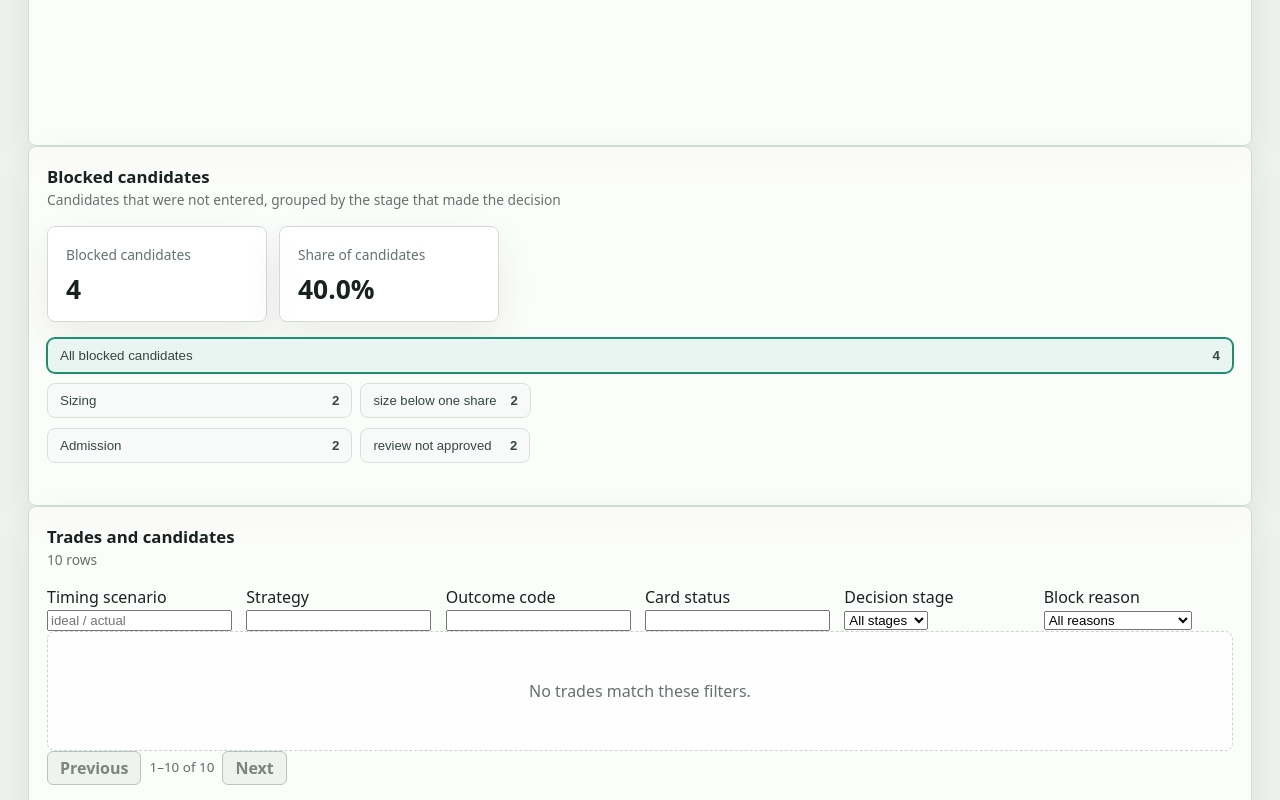
BacktesterTab › shows blocked-candidate counts and filters candidate rows from breakdown buckets
(page scrolled)
Expected: the text "40.0%" is shown, [298,272,375,308]
Click the button "size below one share 2".
click(446, 400)  # box [360,383,531,418]
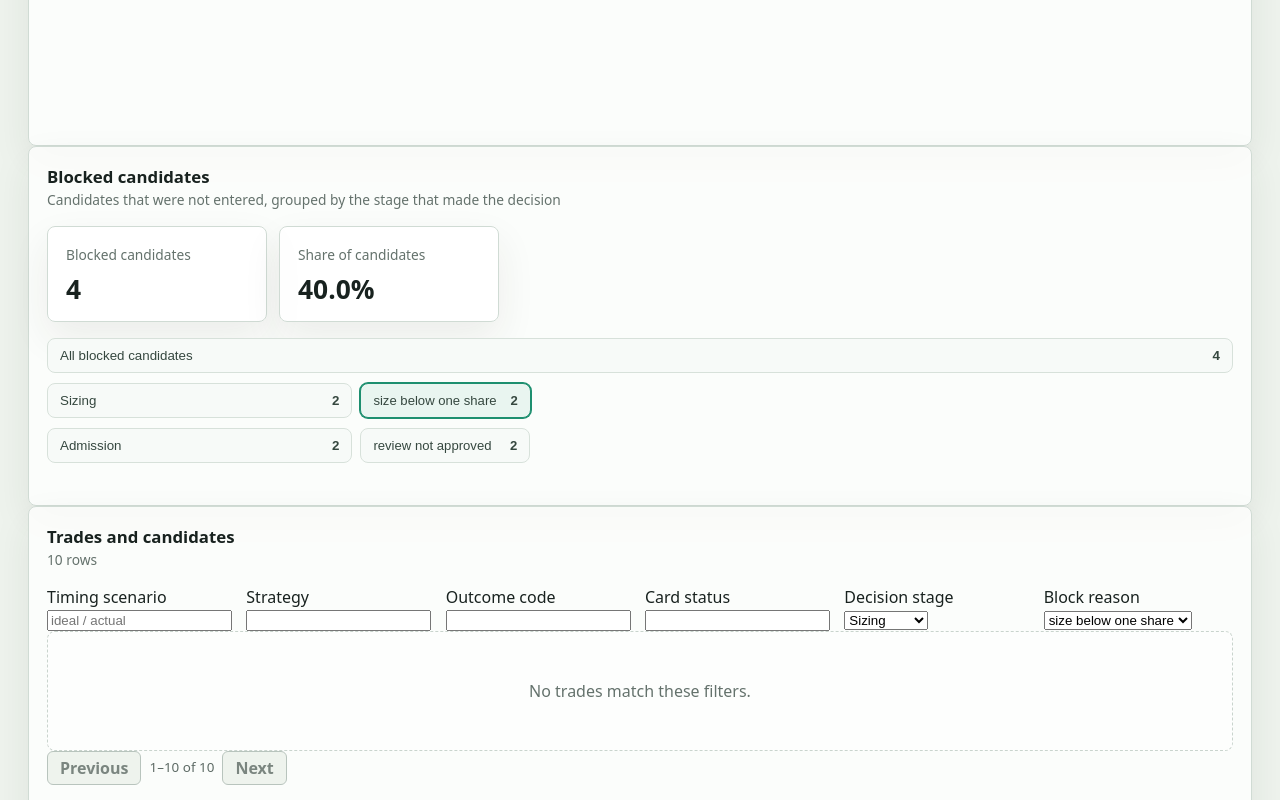
Result: the dropdown labelled "Decision stage" shows "Sizing" at [844,611,928,630]
Result: the dropdown labelled "Block reason" shows "size below one share" at [1044,611,1192,630]
